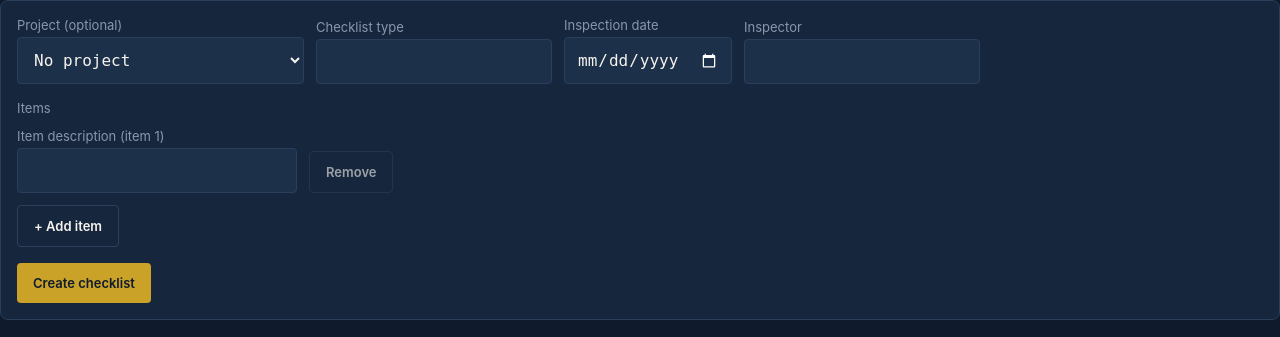
Test: CreateInspectionChecklistForm › shows the server error and keeps field values on failure
Type "Scaffolding" into the field labelled "Checklist type" at point(434, 62), box top-left (316, 39), bottom-right (552, 84)
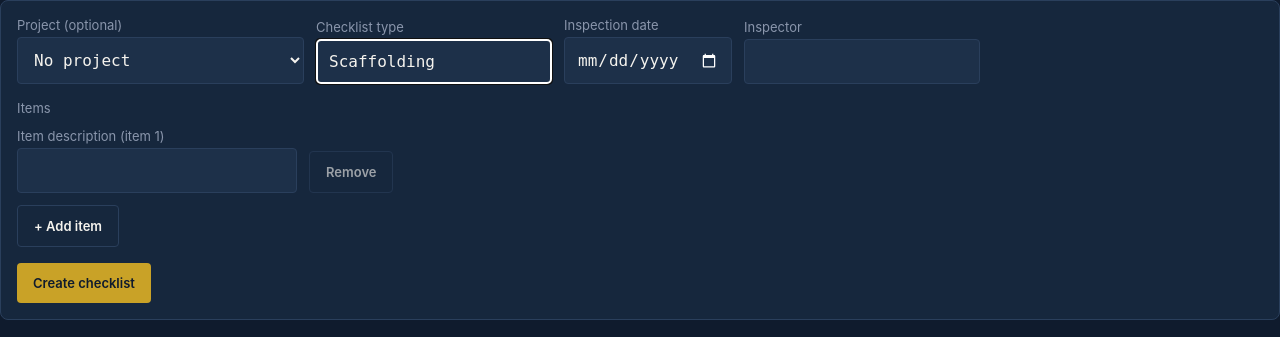
Type "2026-08-01" into the date field labelled "Inspection date" at point(648, 60), box top-left (564, 37), bottom-right (732, 84)
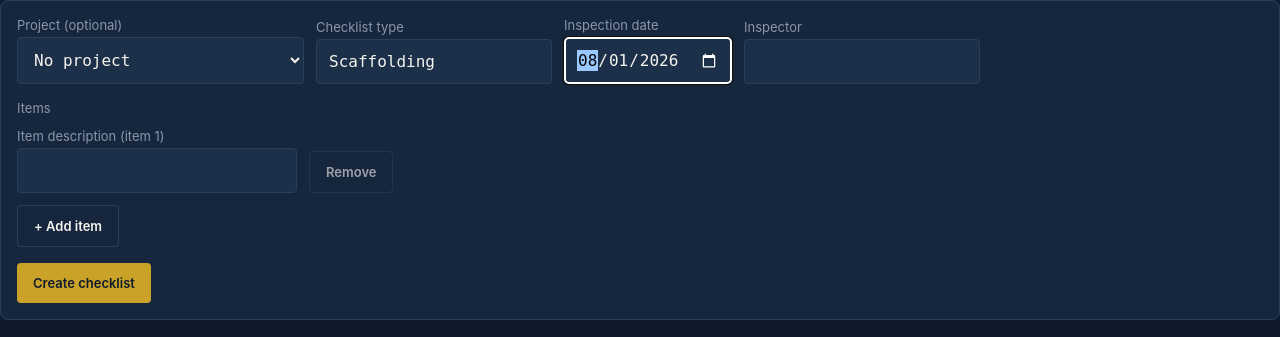
Type "Site Inspector A" into the field labelled "Inspector" at point(862, 62), box top-left (744, 39), bottom-right (980, 84)
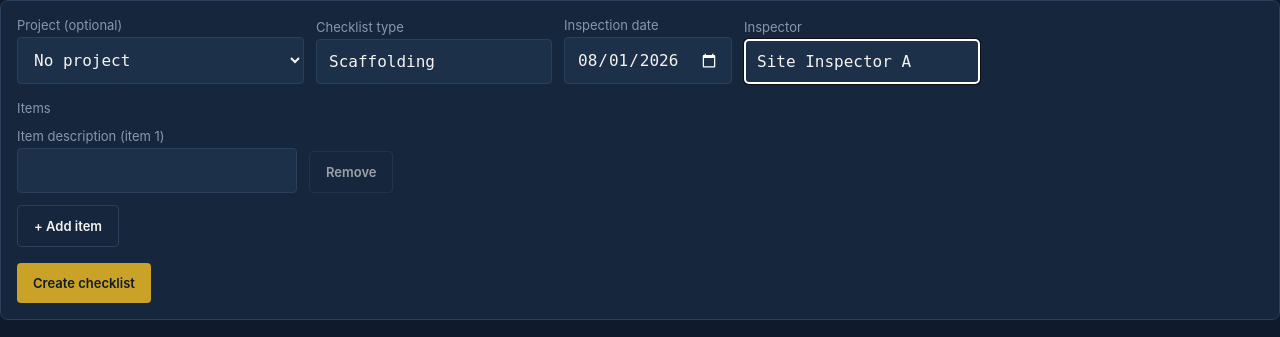
Type "Guardrails secure" into the field labelled "Item description (item 1)" at point(157, 170), box top-left (17, 148), bottom-right (297, 193)
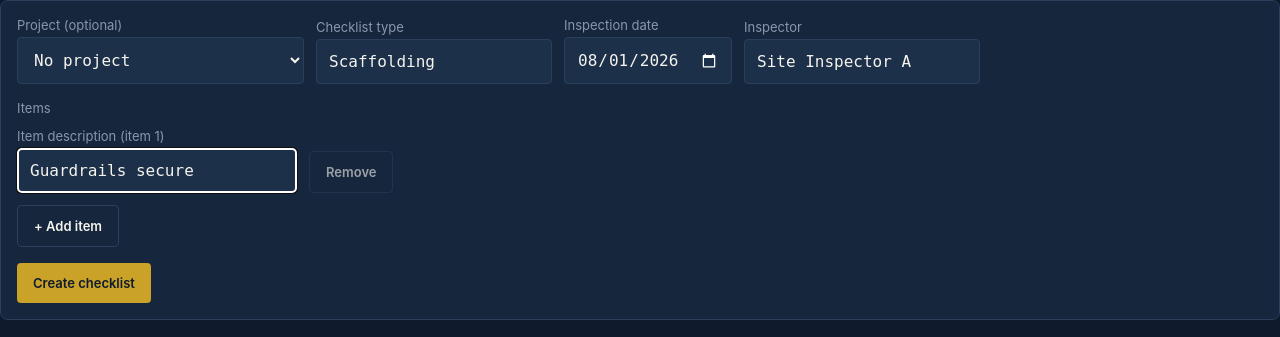
Click the button "Create checklist" at point(84, 283), box top-left (17, 263), bottom-right (151, 303)
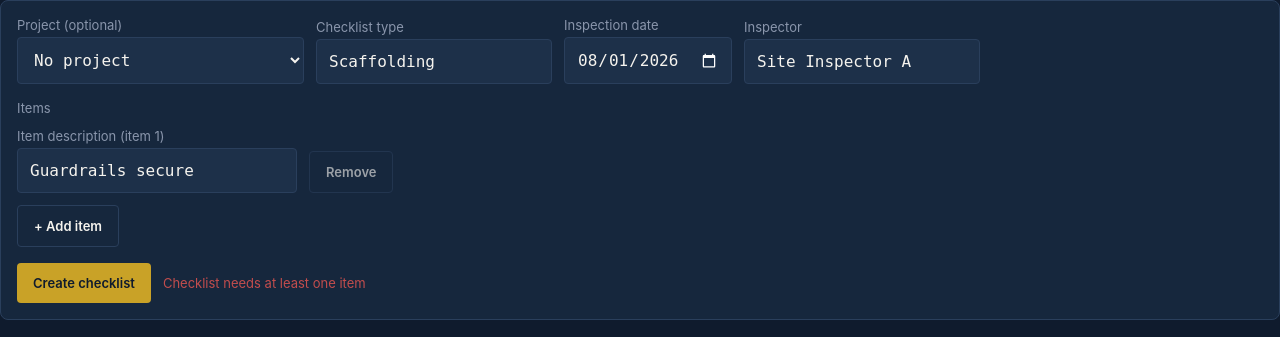
Expected: the text "Checklist needs at least one item" is shown, top-left (163, 275), bottom-right (366, 291)
